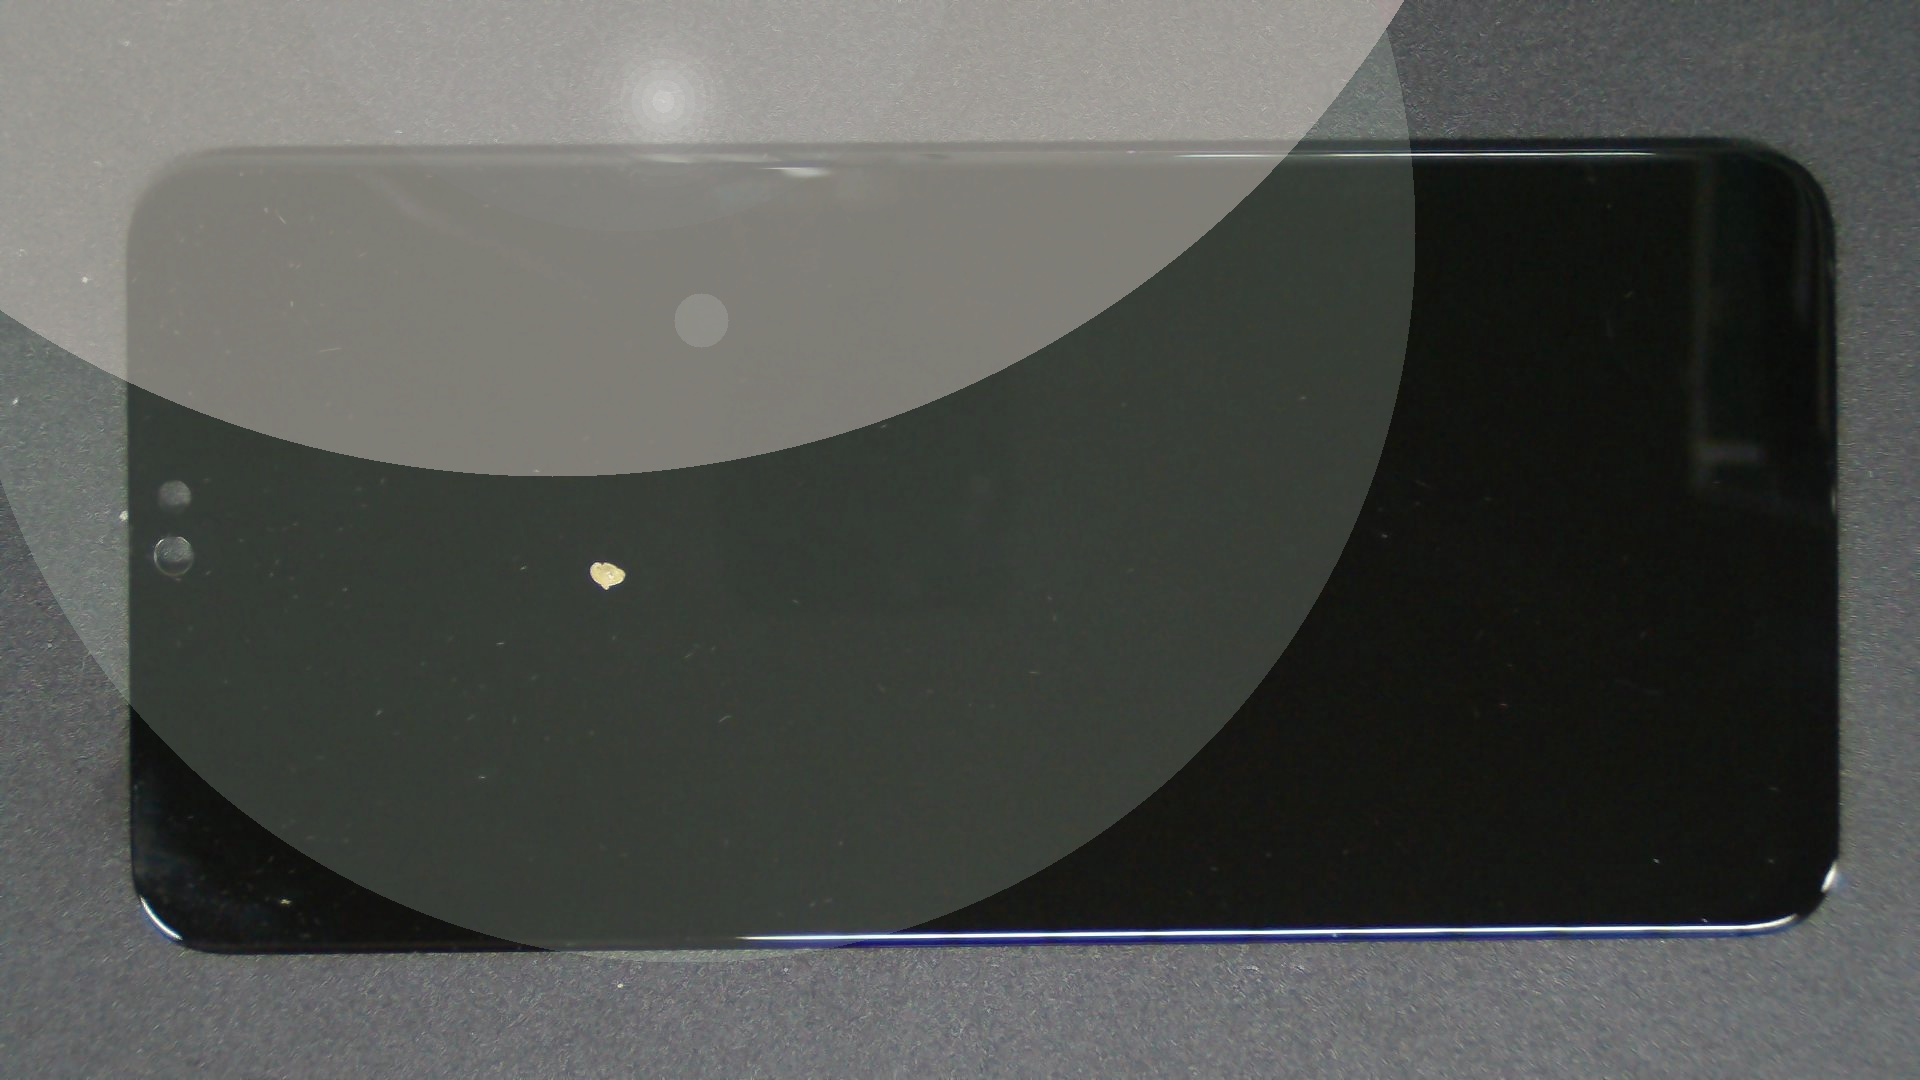oil: (298, 280, 890, 843)
